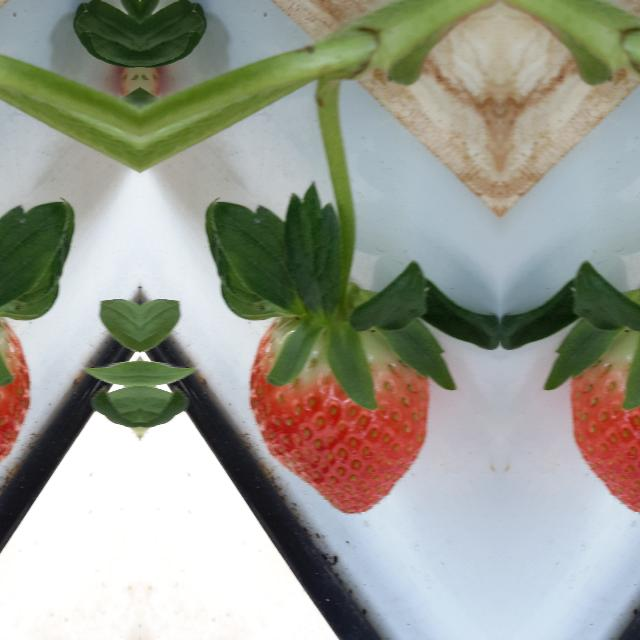Health_100: (248, 319, 430, 513), (570, 319, 640, 513)
